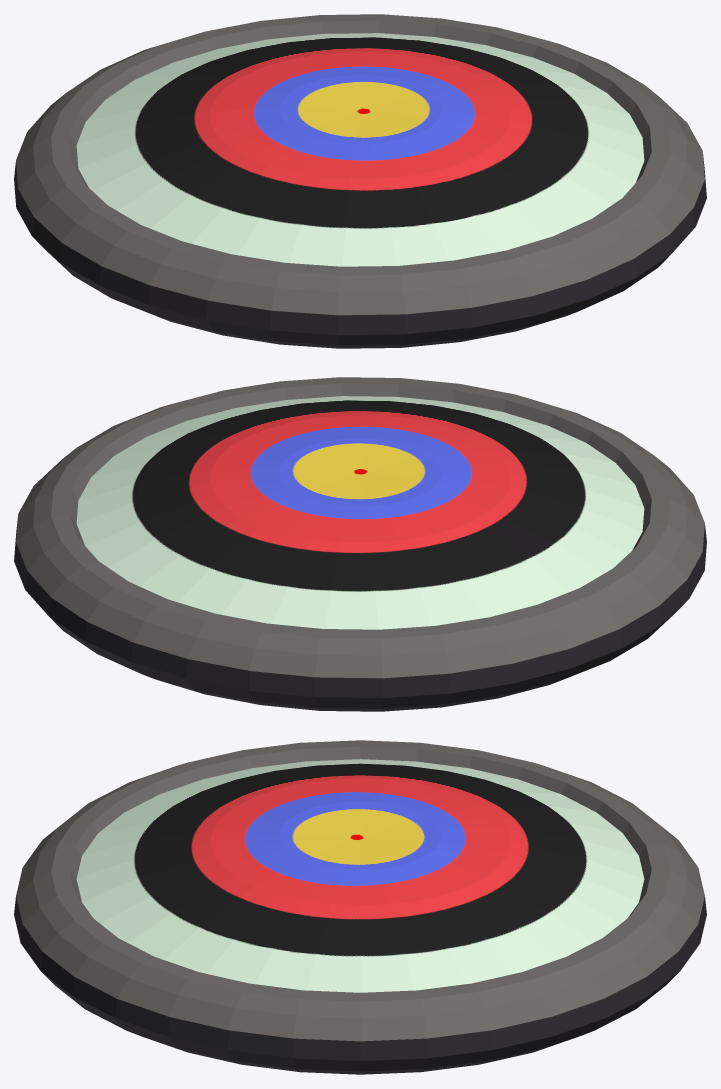
File: trampoline.fbx
3 renders of one model, top to bottom at view 1: azimuth 30°, elevation 25°; view 2: azimuth 150°, elevation 25°; view 3: azimuth 270°, elevation 25°, orthographic.
Parts seen in each view (by area): view 1: bulls_eye_LOD0; view 2: bulls_eye_LOD0; view 3: bulls_eye_LOD0.
Part boxes in pixels (x1,y1,x2,y2): bulls_eye_LOD0: [14, 14, 706, 348]; bulls_eye_LOD0: [14, 377, 706, 711]; bulls_eye_LOD0: [14, 740, 706, 1074].
Size of what is drawn, in the model's own units: 5.41 by 0.9324 by 5.41.
